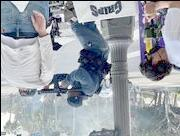gun: (35, 83, 77, 96)
